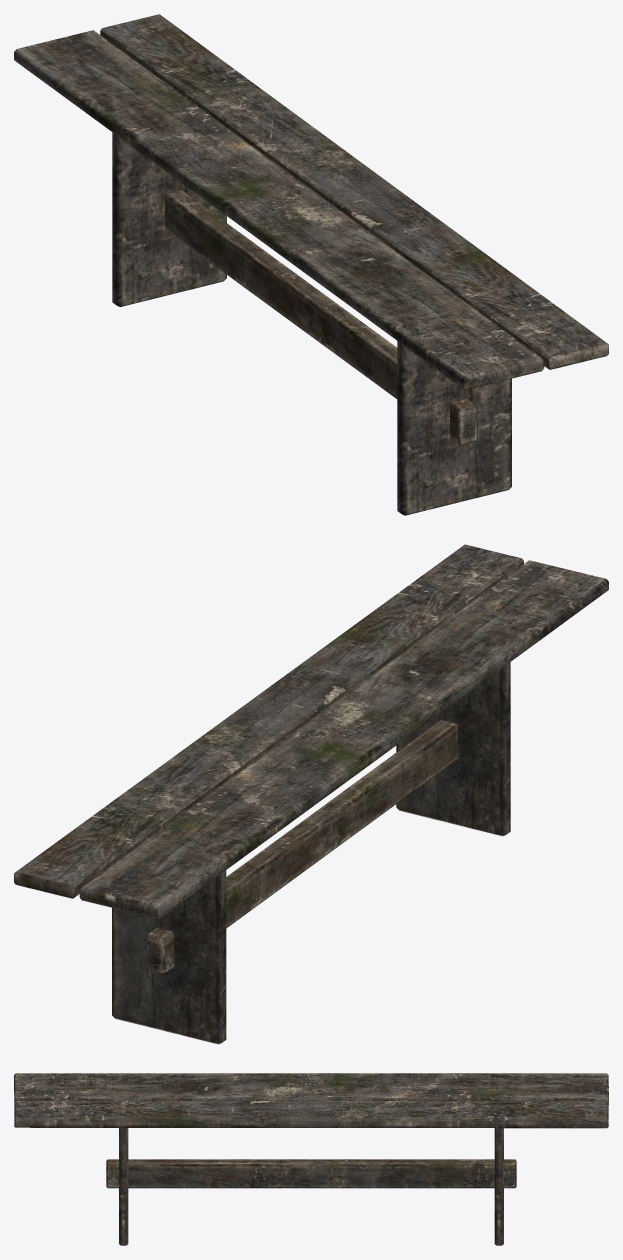
The model's file is Bench.fbx.
The picture shows the model from 3 angles, top to bottom: view 1: azimuth 30°, elevation 25°; view 2: azimuth 150°, elevation 25°; view 3: azimuth 270°, elevation 25°; orthographic projection. The views are drawn at different scales.
Parts seen in each view (by area): view 1: Bench_LOD0; view 2: Bench_LOD0; view 3: Bench_LOD0.
Boxes of the visible parts, x1,y1,x2,y2 form: Bench_LOD0: [14, 14, 608, 515]; Bench_LOD0: [14, 544, 608, 1044]; Bench_LOD0: [14, 1073, 608, 1245].
Size of what is drawn, in the model's own units: 35.92 by 46.85 by 190.
